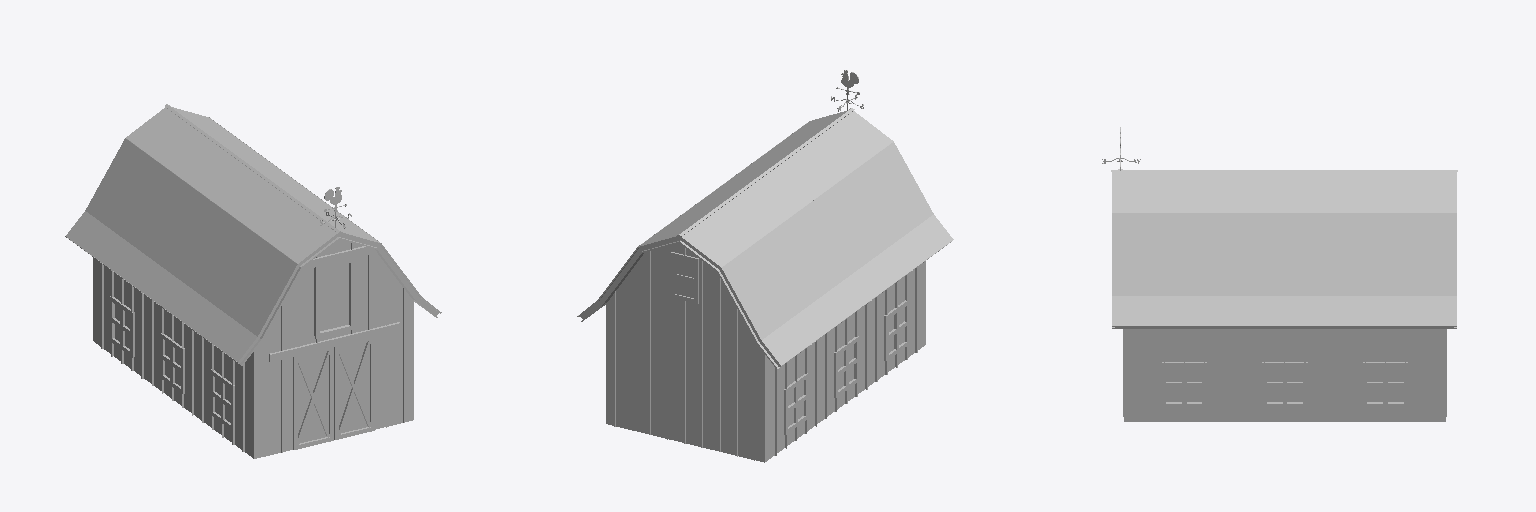
File: Barn.obj
The picture shows the model from 3 angles: view 1: azimuth 30°, elevation 25°; view 2: azimuth 150°, elevation 25°; view 3: azimuth 270°, elevation 25°; orthographic projection.
Visible parts, largest first — view 1: Barn:Line024; view 2: Barn:Line024; view 3: Barn:Line024.
Boxes of the visible parts, box(x1,y1,x2,y2) form: Barn:Line024: box(65, 104, 441, 458); Barn:Line024: box(577, 70, 953, 462); Barn:Line024: box(1102, 127, 1457, 421).
Bounding box in the file's own units: 103 × 122 × 155.